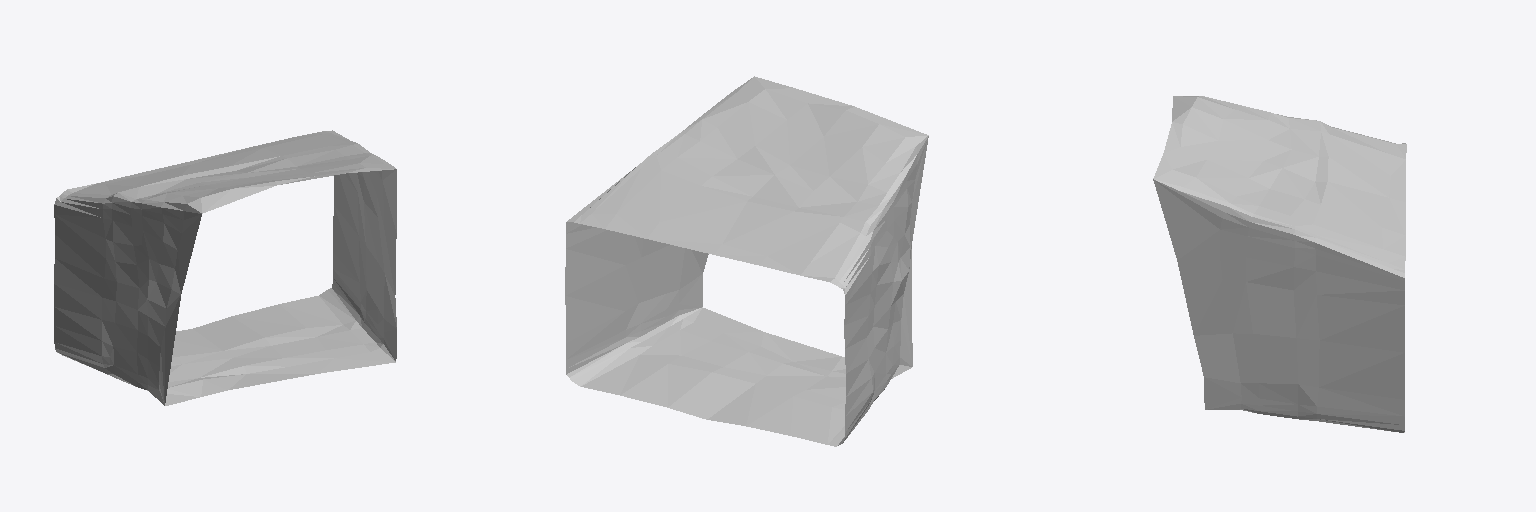
File: Env7_UVlow.OBJ
3 renders of one model, left to right at view 1: azimuth 30°, elevation 25°; view 2: azimuth 150°, elevation 25°; view 3: azimuth 270°, elevation 25°, orthographic.
Visible parts, largest first — view 1: Env7_UVlow:Mesh; view 2: Env7_UVlow:Mesh; view 3: Env7_UVlow:Mesh.
Boxes of the visible parts, x1,y1,x2,y2 form: Env7_UVlow:Mesh: [54, 130, 396, 405]; Env7_UVlow:Mesh: [565, 76, 928, 446]; Env7_UVlow:Mesh: [1153, 96, 1406, 432].
Size of the model in its own units: 24.98 by 20.1 by 19.58.